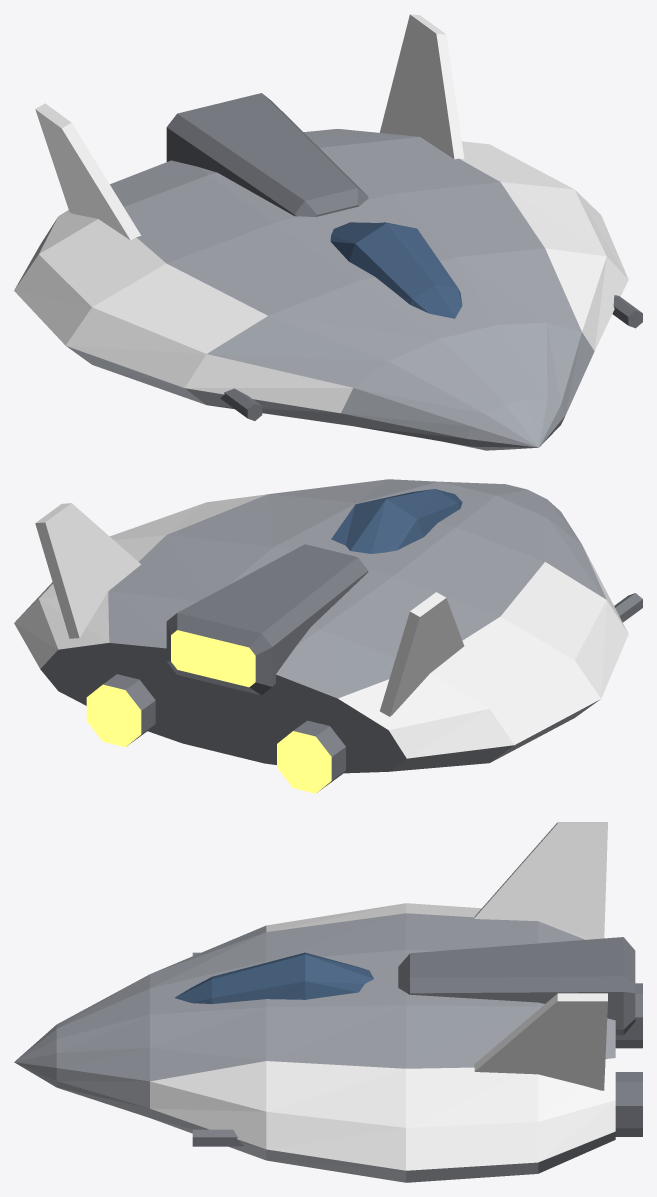
The model's file is manta.glb.
3 renders of one model, top to bottom at view 1: azimuth 30°, elevation 25°; view 2: azimuth 150°, elevation 25°; view 3: azimuth 270°, elevation 25°, orthographic. The views are drawn at different scales.
Visible parts, largest first — view 1: hull, debris_fin_left, debris_canopy, debris_fin_right; view 2: hull, debris_fin_left, debris_canopy, debris_fin_right; view 3: hull, debris_fin_right, debris_fin_left, debris_canopy.
Boxes of the visible parts, bbox=[...] form: hull: bbox=[14, 93, 642, 450]; debris_fin_left: bbox=[379, 14, 464, 159]; debris_canopy: bbox=[330, 222, 462, 318]; debris_fin_right: bbox=[35, 103, 140, 240]; hull: bbox=[14, 479, 642, 793]; debris_fin_left: bbox=[35, 503, 140, 638]; debris_canopy: bbox=[331, 489, 462, 553]; debris_fin_right: bbox=[380, 592, 464, 716]; hull: bbox=[14, 903, 642, 1182]; debris_fin_right: bbox=[474, 822, 607, 939]; debris_fin_left: bbox=[474, 993, 607, 1090]; debris_canopy: bbox=[174, 952, 373, 1003].
Size of the model in its own units: 7.6 by 2.73 by 8.1.
